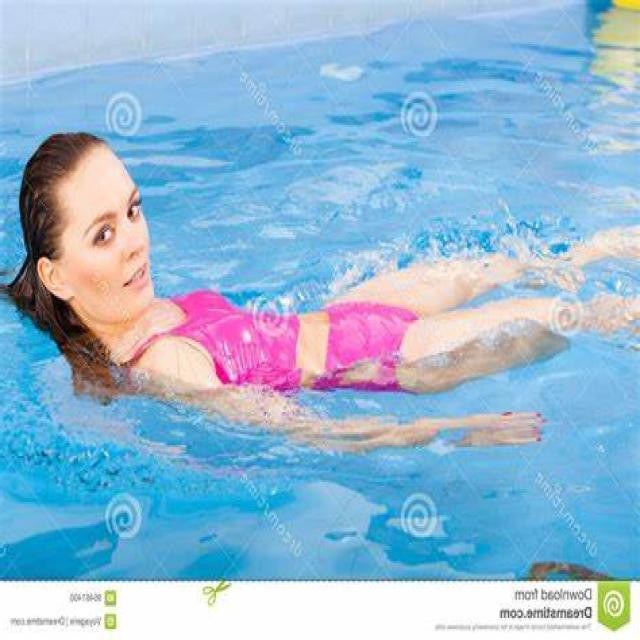swimming: (11, 138, 595, 434)
